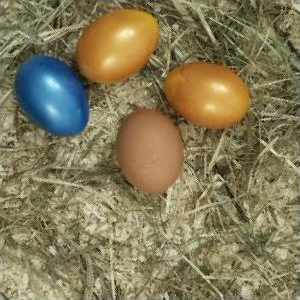egg: (74, 9, 160, 84), (160, 63, 250, 131), (16, 57, 89, 135), (117, 111, 184, 193)
